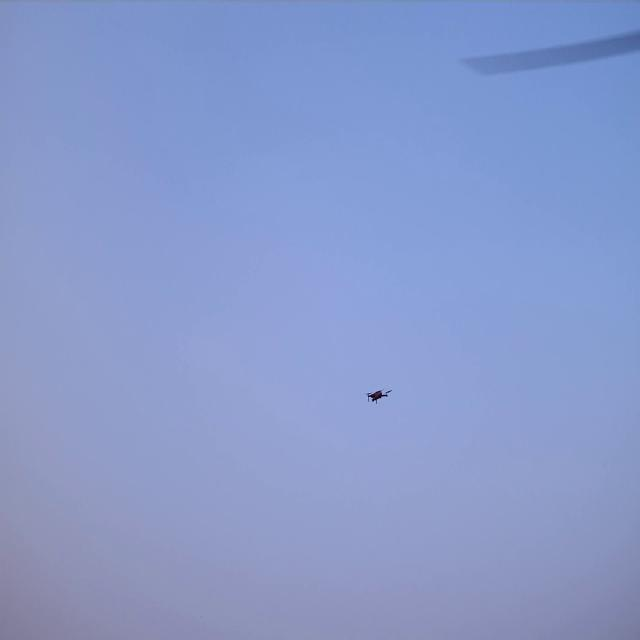UAV: (368, 390, 390, 403)
